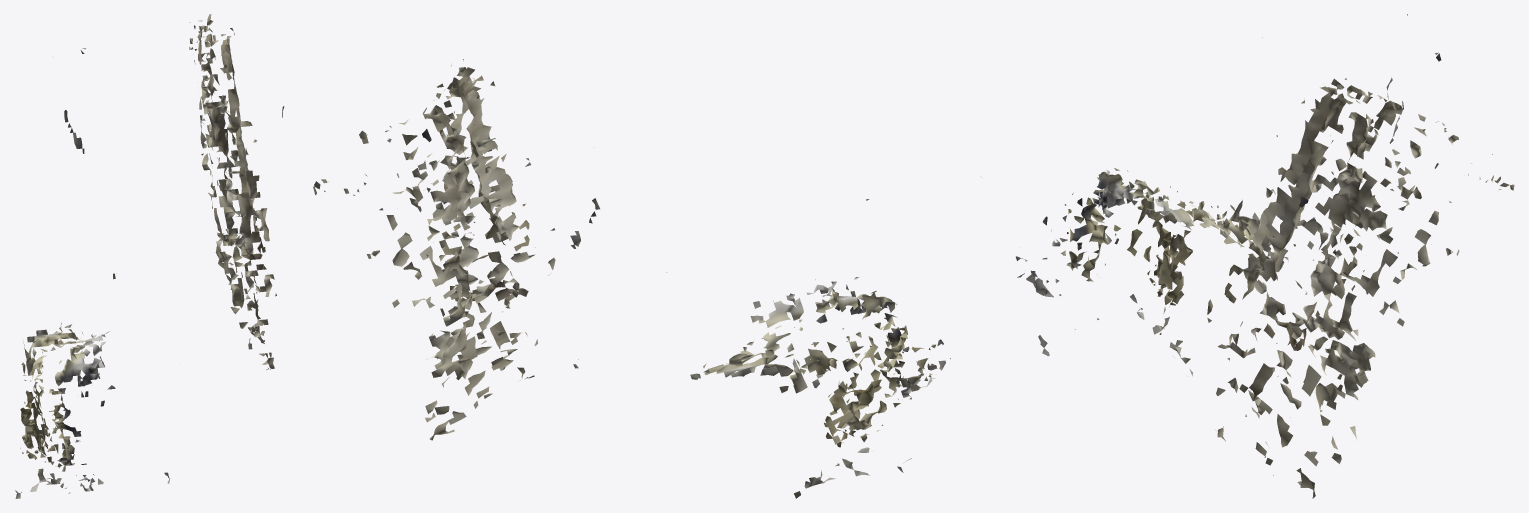
The model's file is baseline_model.glb.
3 views of the same model, side by side, from view 1: azimuth 30°, elevation 25°; view 2: azimuth 150°, elevation 25°; view 3: azimuth 270°, elevation 25° (orthographic). The views are drawn at different scales.
Visible parts, largest first — view 1: VastuDigitalTwin; view 2: VastuDigitalTwin; view 3: VastuDigitalTwin.
Boxes of the visible parts, x1,y1,x2,y2 form: VastuDigitalTwin: [15, 14, 284, 498]; VastuDigitalTwin: [313, 59, 950, 498]; VastuDigitalTwin: [980, 14, 1514, 498].
Size of the model in its own units: 2.19 by 2.31 by 2.45.
